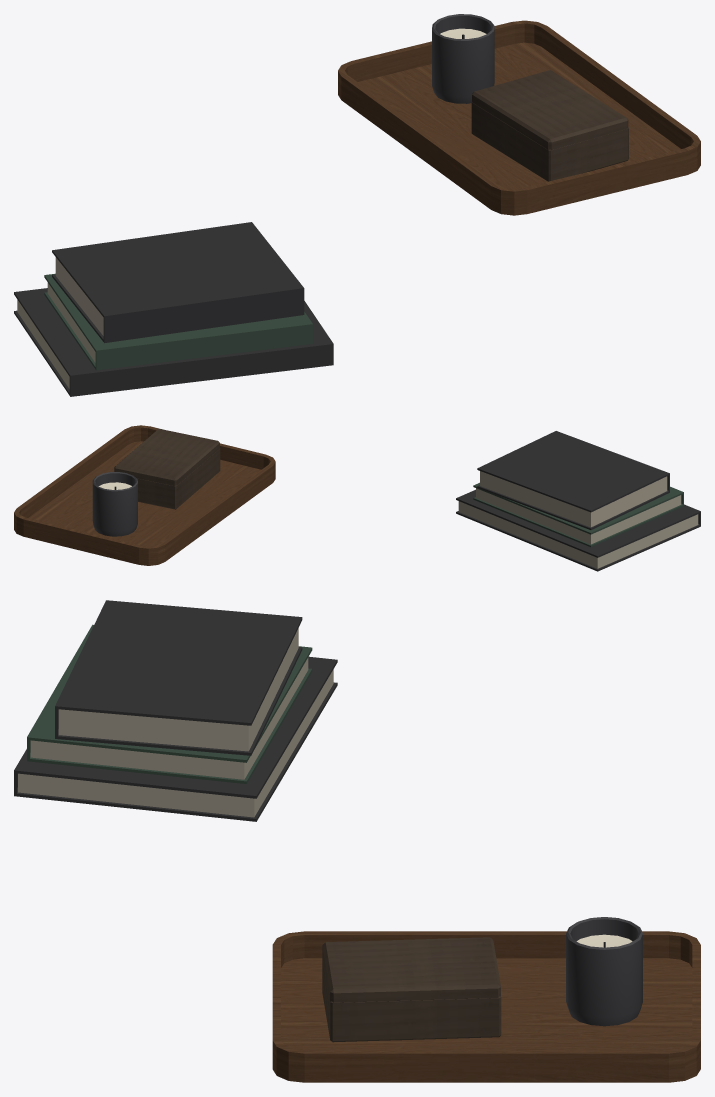
The model's file is decor_a_table_ottoman_den.gltf.
3 views of the same model, one above another, from view 1: azimuth 30°, elevation 25°; view 2: azimuth 150°, elevation 25°; view 3: azimuth 270°, elevation 25° (orthographic). The views are drawn at different scales.
Visible parts, largest first — view 1: DecorATableOttomanDen_walnut_NoCollide, DecorATableOttomanDen_Book03_BookCharcoal_NoCollide, DecorATableOttomanDen_Box01_Oak_NoCollide, DecorATableOttomanDen_Book01_BookCharcoal_NoCollide, DecorATableOttomanDen_Book02_BookMoss_NoCollide, DecorATableOttomanDen_Candle01_Charcoal_NoCollide, DecorATableOttomanDen_Book03_BookCream_NoCollide, DecorATableOttomanDen_Book01_BookCream_NoCollide, DecorATableOttomanDen_Book02_BookCream_NoCollide; view 2: DecorATableOttomanDen_walnut_NoCollide, DecorATableOttomanDen_Book03_BookCharcoal_NoCollide, DecorATableOttomanDen_Box01_Oak_NoCollide, DecorATableOttomanDen_Book01_BookCharcoal_NoCollide, DecorATableOttomanDen_Book03_BookCream_NoCollide, DecorATableOttomanDen_Book01_BookCream_NoCollide, DecorATableOttomanDen_Candle01_Charcoal_NoCollide, DecorATableOttomanDen_Book02_BookCream_NoCollide, DecorATableOttomanDen_Book02_BookMoss_NoCollide; view 3: DecorATableOttomanDen_walnut_NoCollide, DecorATableOttomanDen_Book03_BookCharcoal_NoCollide, DecorATableOttomanDen_Box01_Oak_NoCollide, DecorATableOttomanDen_Book01_BookCharcoal_NoCollide, DecorATableOttomanDen_Candle01_Charcoal_NoCollide, DecorATableOttomanDen_Book03_BookCream_NoCollide, DecorATableOttomanDen_Book01_BookCream_NoCollide, DecorATableOttomanDen_Book02_BookMoss_NoCollide, DecorATableOttomanDen_Book02_BookCream_NoCollide.
Part boxes in pixels (left/top/right/bottom): DecorATableOttomanDen_walnut_NoCollide: left=338, top=20, right=700, bottom=215; DecorATableOttomanDen_Book03_BookCharcoal_NoCollide: left=52, top=222, right=304, bottom=343; DecorATableOttomanDen_Box01_Oak_NoCollide: left=471, top=70, right=628, bottom=181; DecorATableOttomanDen_Book01_BookCharcoal_NoCollide: left=14, top=288, right=333, bottom=396; DecorATableOttomanDen_Book02_BookMoss_NoCollide: left=44, top=273, right=312, bottom=370; DecorATableOttomanDen_Candle01_Charcoal_NoCollide: left=432, top=14, right=494, bottom=103; DecorATableOttomanDen_Book03_BookCream_NoCollide: left=55, top=257, right=103, bottom=335; DecorATableOttomanDen_Book01_BookCream_NoCollide: left=17, top=300, right=69, bottom=388; DecorATableOttomanDen_Book02_BookCream_NoCollide: left=47, top=282, right=95, bottom=362; DecorATableOttomanDen_walnut_NoCollide: left=14, top=425, right=275, bottom=565; DecorATableOttomanDen_Book03_BookCharcoal_NoCollide: left=477, top=431, right=669, bottom=529; DecorATableOttomanDen_Box01_Oak_NoCollide: left=114, top=428, right=220, bottom=509; DecorATableOttomanDen_Book01_BookCharcoal_NoCollide: left=456, top=489, right=700, bottom=571; DecorATableOttomanDen_Book03_BookCream_NoCollide: left=480, top=471, right=667, bottom=527; DecorATableOttomanDen_Book01_BookCream_NoCollide: left=458, top=501, right=698, bottom=568; DecorATableOttomanDen_Candle01_Charcoal_NoCollide: left=92, top=472, right=137, bottom=536; DecorATableOttomanDen_Book02_BookCream_NoCollide: left=476, top=488, right=681, bottom=544; DecorATableOttomanDen_Book02_BookMoss_NoCollide: left=473, top=482, right=683, bottom=547; DecorATableOttomanDen_walnut_NoCollide: left=272, top=931, right=700, bottom=1082; DecorATableOttomanDen_Book03_BookCharcoal_NoCollide: left=55, top=600, right=302, bottom=755; DecorATableOttomanDen_Box01_Oak_NoCollide: left=322, top=937, right=501, bottom=1042; DecorATableOttomanDen_Book01_BookCharcoal_NoCollide: left=14, top=656, right=337, bottom=821; DecorATableOttomanDen_Candle01_Charcoal_NoCollide: left=566, top=917, right=642, bottom=1026; DecorATableOttomanDen_Book03_BookCream_NoCollide: left=58, top=628, right=298, bottom=751; DecorATableOttomanDen_Book01_BookCream_NoCollide: left=18, top=669, right=333, bottom=817; DecorATableOttomanDen_Book02_BookMoss_NoCollide: left=27, top=624, right=312, bottom=783; DecorATableOttomanDen_Book02_BookCream_NoCollide: left=30, top=657, right=308, bottom=779.
Size of the model in its own units: 0.9342 by 0.0874 by 0.6413.
8 materials, 2 textured.
